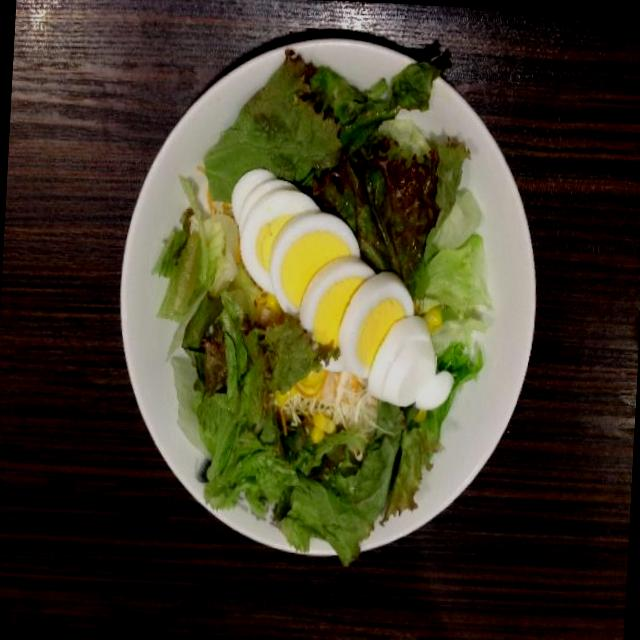Egg: (233, 198, 434, 408)
Green Salad: (144, 83, 504, 526)
